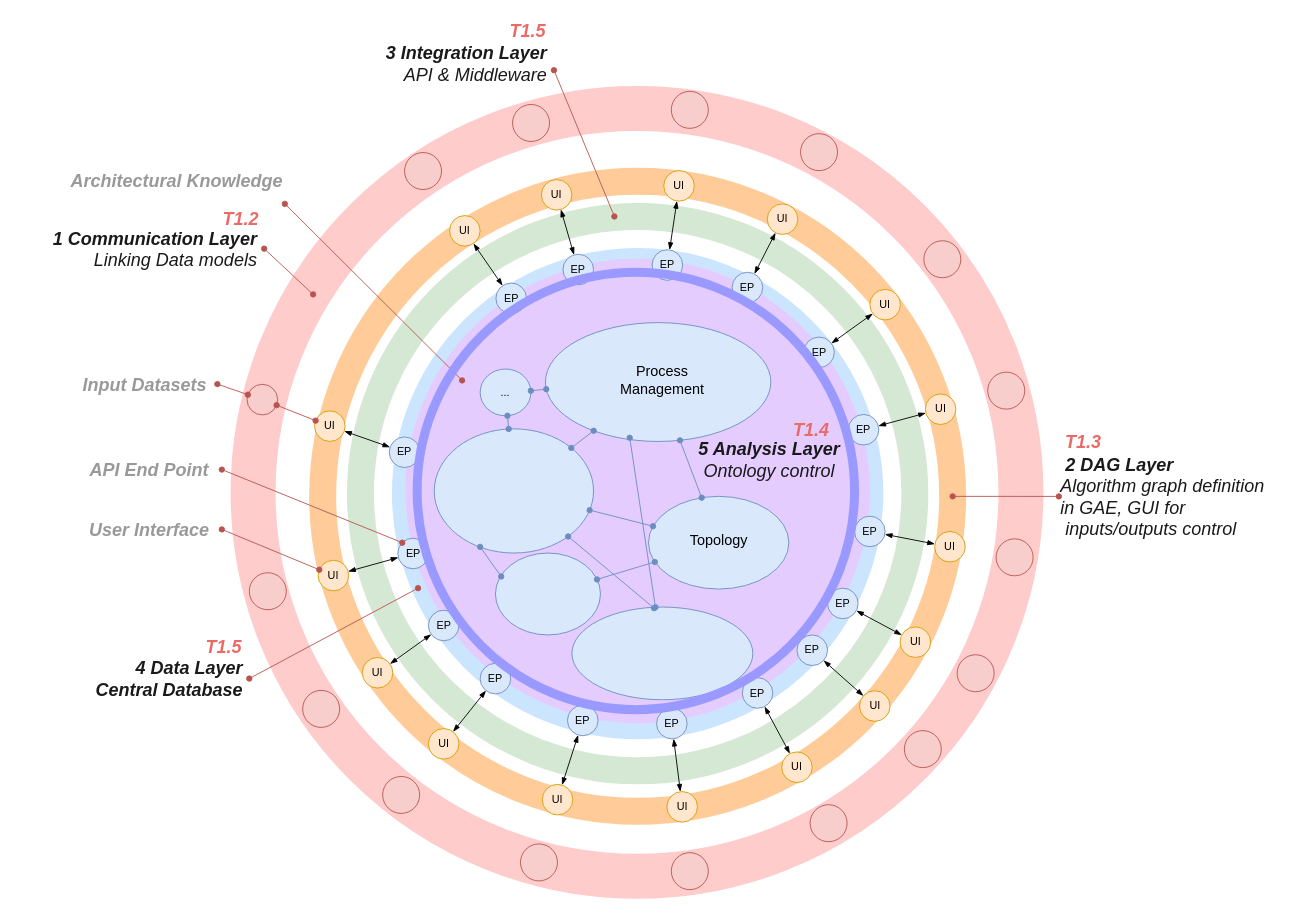
The diagram is 1292 pixels wide and 914 high, and some of its shapes have lost their labels. The centre of each missing label's shape, as x and y in pixels:
DATA: pixel 262 399
Material Structure MBS: pixel 662 653
Parametric Design: pixel 513 490
Shape Grammar: pixel 547 593
